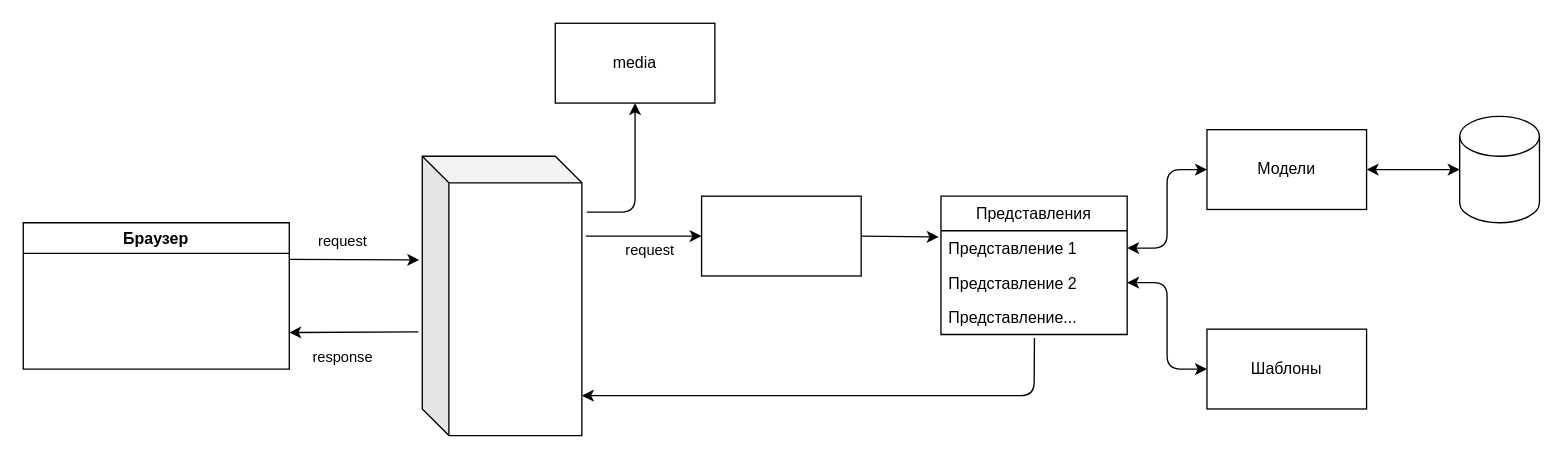
The diagram is 1563 pixels wide and 459 high, and some of its shapes have lost their labels. Each missing label, with the box of its shape:
URL: (700, 195, 861, 276)
БД: (1458, 115, 1539, 223)
Веб-сервер: (421, 155, 582, 436)
